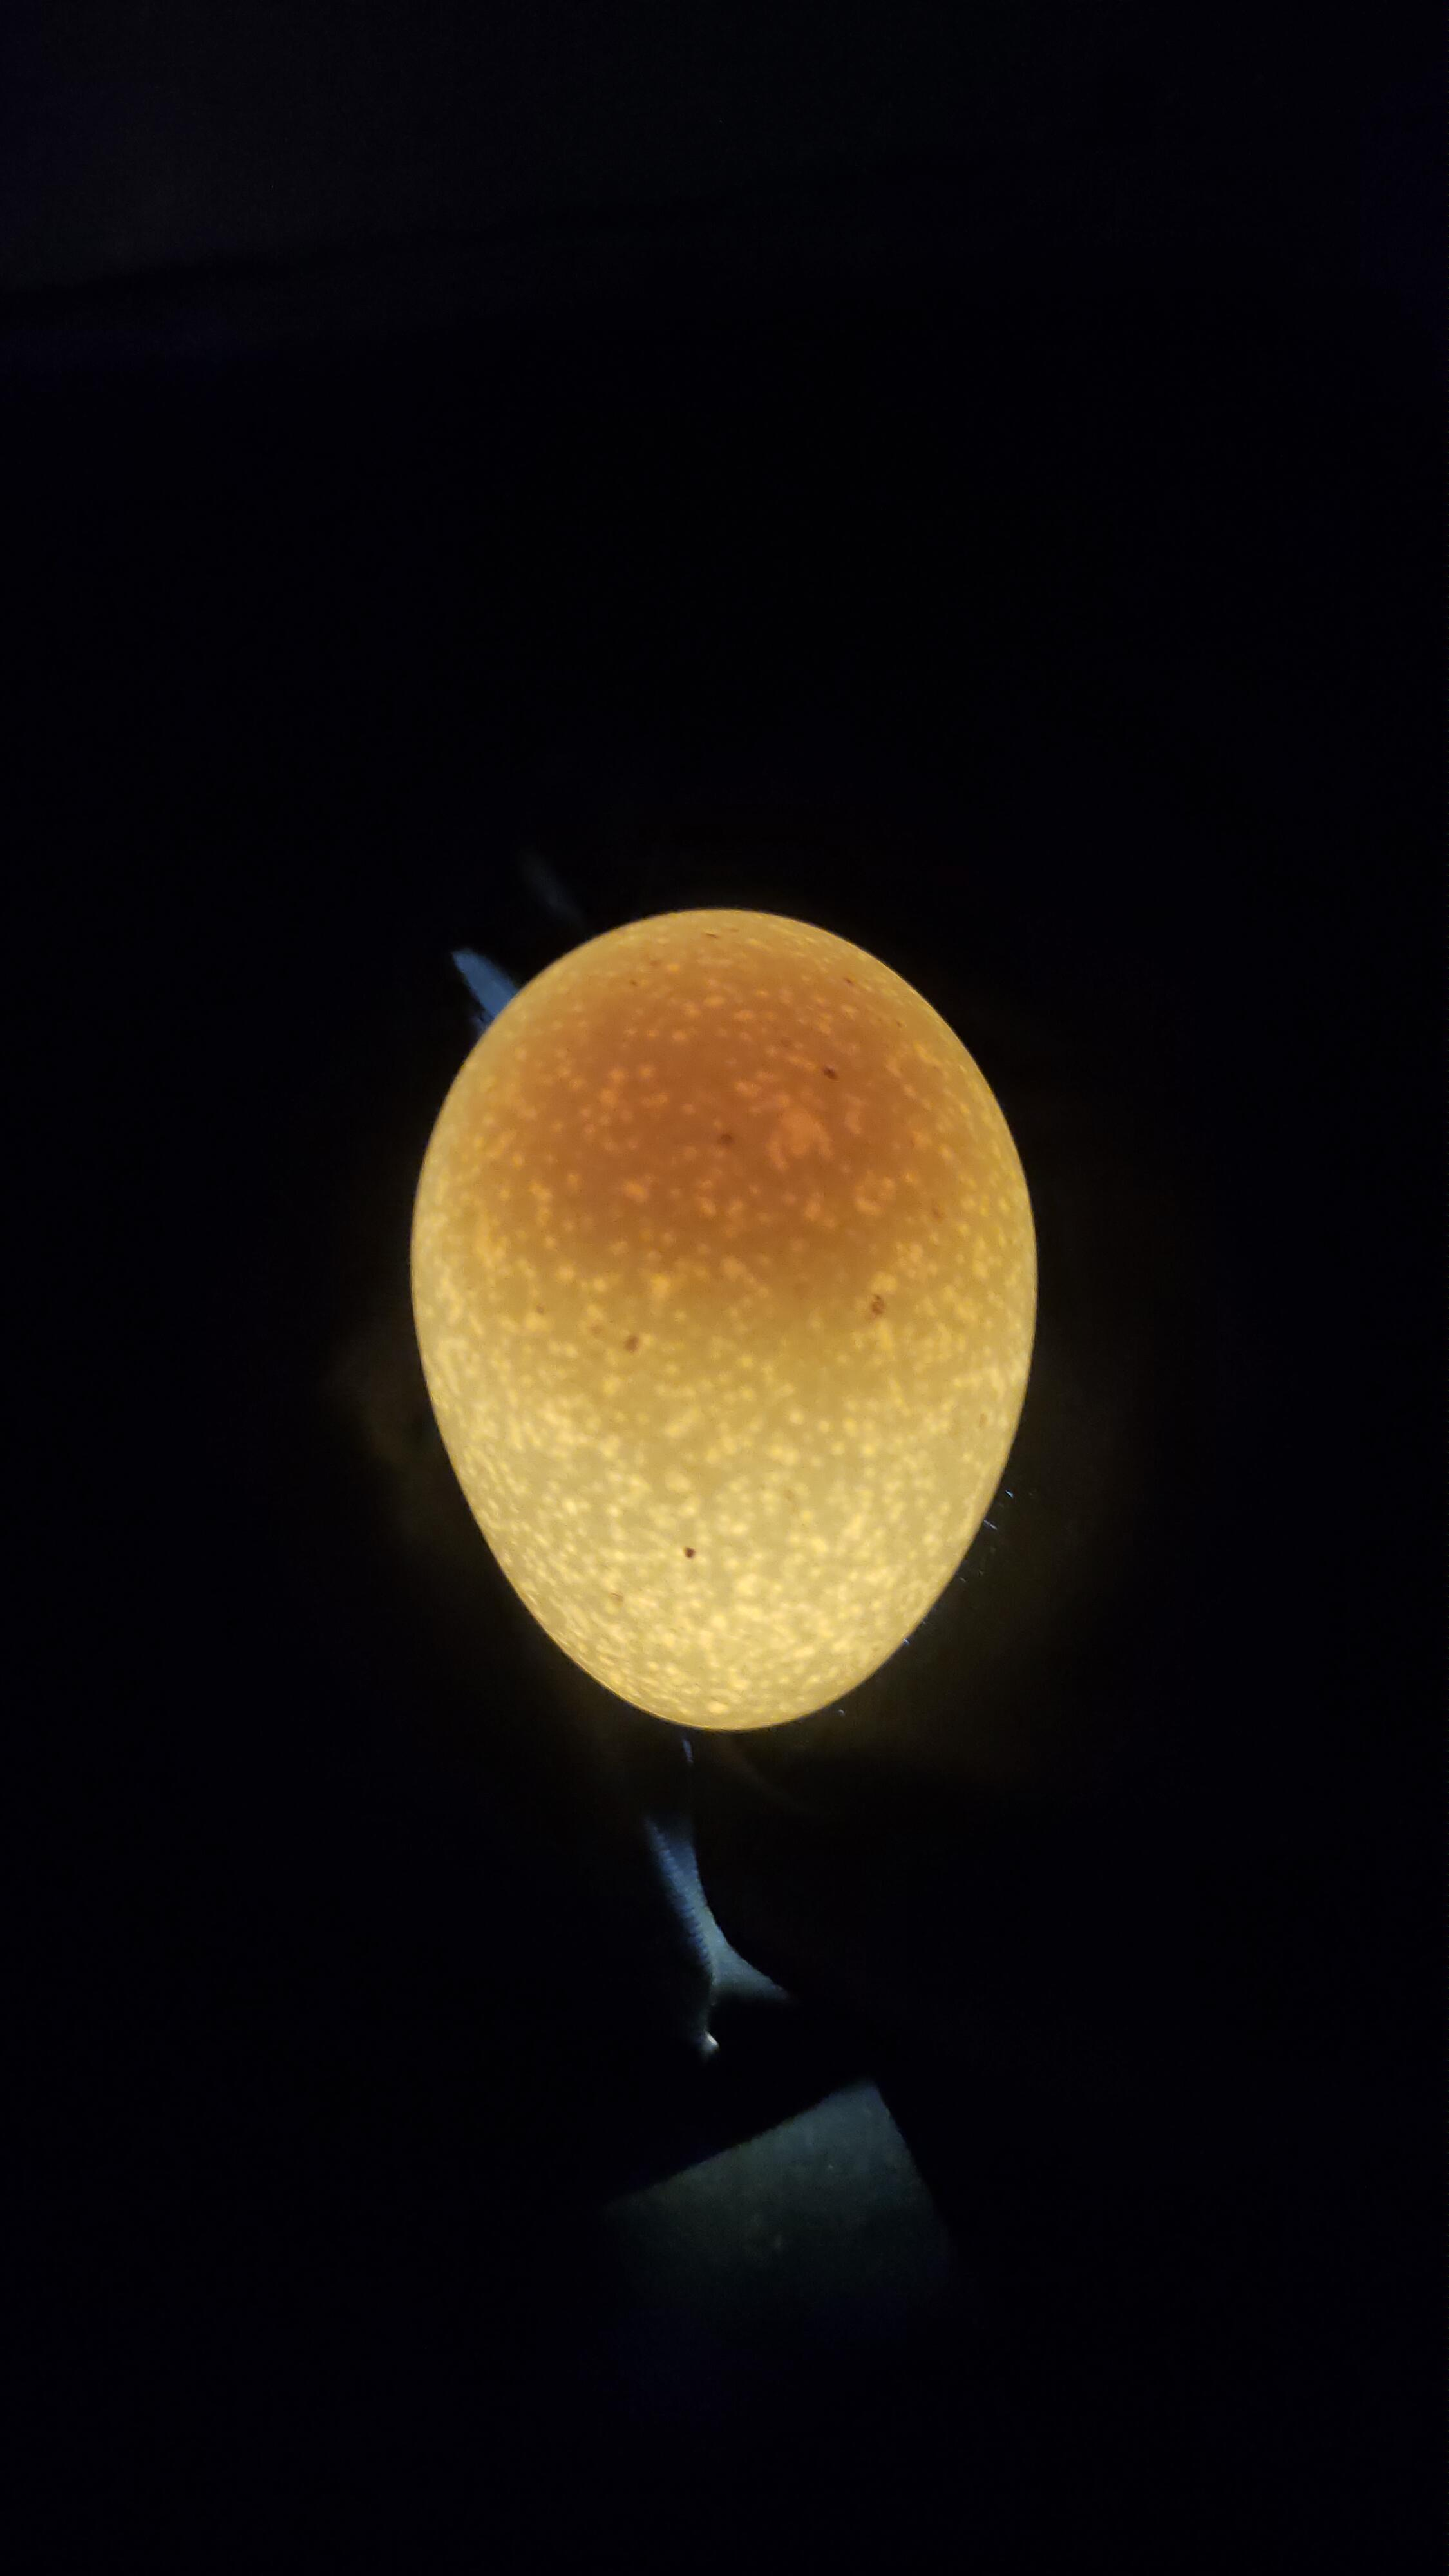Inedible: (405, 908, 1028, 1730)
